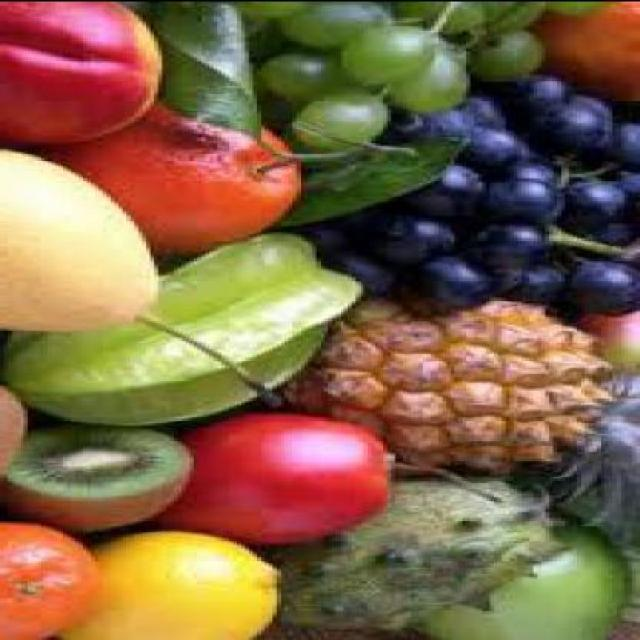BIODEGRADABLE: (288, 295, 640, 533), (4, 144, 284, 405), (8, 228, 368, 426), (272, 468, 565, 624), (40, 100, 308, 254), (166, 409, 403, 543), (423, 516, 635, 638), (71, 528, 292, 638), (4, 0, 170, 145), (4, 424, 205, 528), (3, 516, 111, 638), (550, 2, 638, 92), (343, 20, 439, 85), (304, 88, 396, 150), (264, 43, 368, 97), (283, 2, 400, 48), (411, 162, 494, 215), (427, 253, 513, 302), (394, 53, 474, 105), (372, 212, 462, 258), (572, 258, 638, 314), (481, 218, 557, 265), (474, 27, 546, 76), (542, 92, 612, 142), (584, 302, 638, 364), (414, 1, 512, 34), (490, 175, 565, 218), (411, 103, 482, 146), (506, 262, 577, 303), (4, 381, 36, 467), (466, 122, 529, 164), (336, 250, 399, 288), (510, 74, 573, 108), (502, 150, 564, 181), (573, 173, 629, 207), (600, 120, 638, 168), (240, 1, 326, 22), (597, 217, 638, 260), (482, 2, 546, 24), (296, 223, 344, 251), (470, 94, 510, 121), (548, 1, 609, 12)
